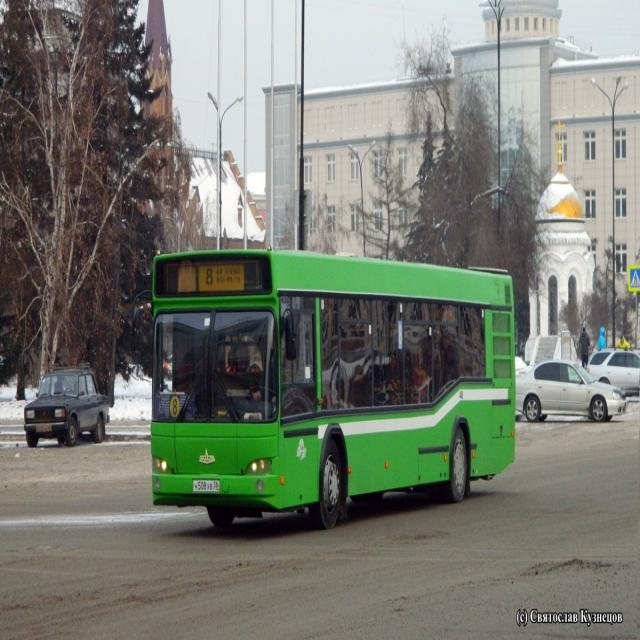number-of-bus: (207, 266, 216, 290), (171, 399, 180, 418)
